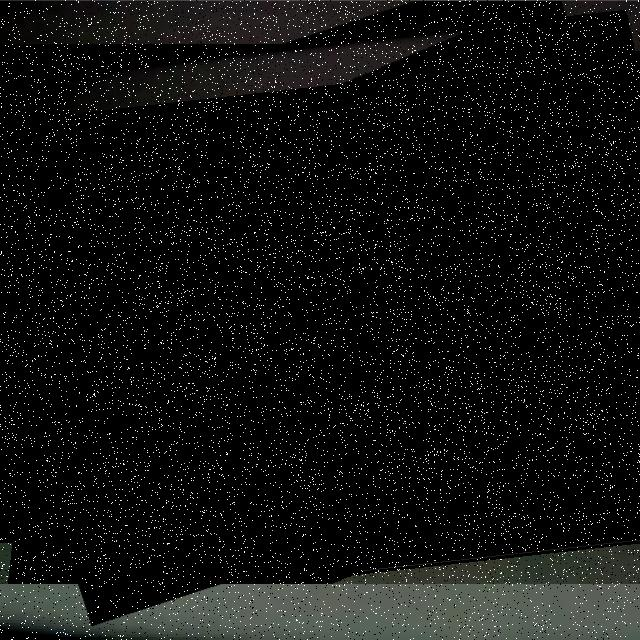dua ribu rupiah: (0, 1, 640, 584)
